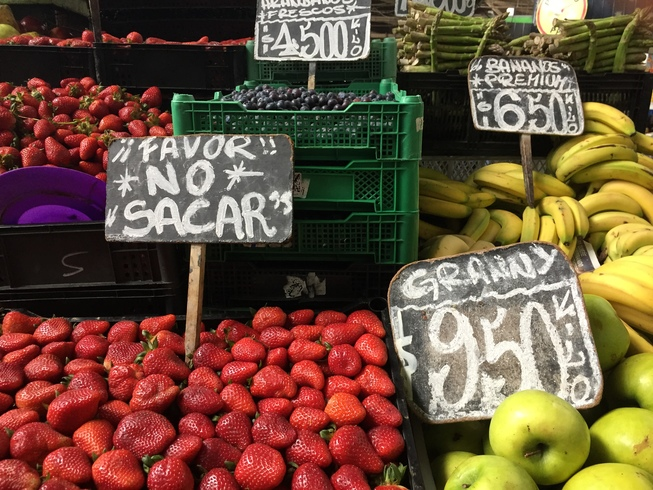precio: (381, 242, 617, 429), (103, 132, 306, 251), (464, 51, 595, 142), (252, 1, 385, 70)
